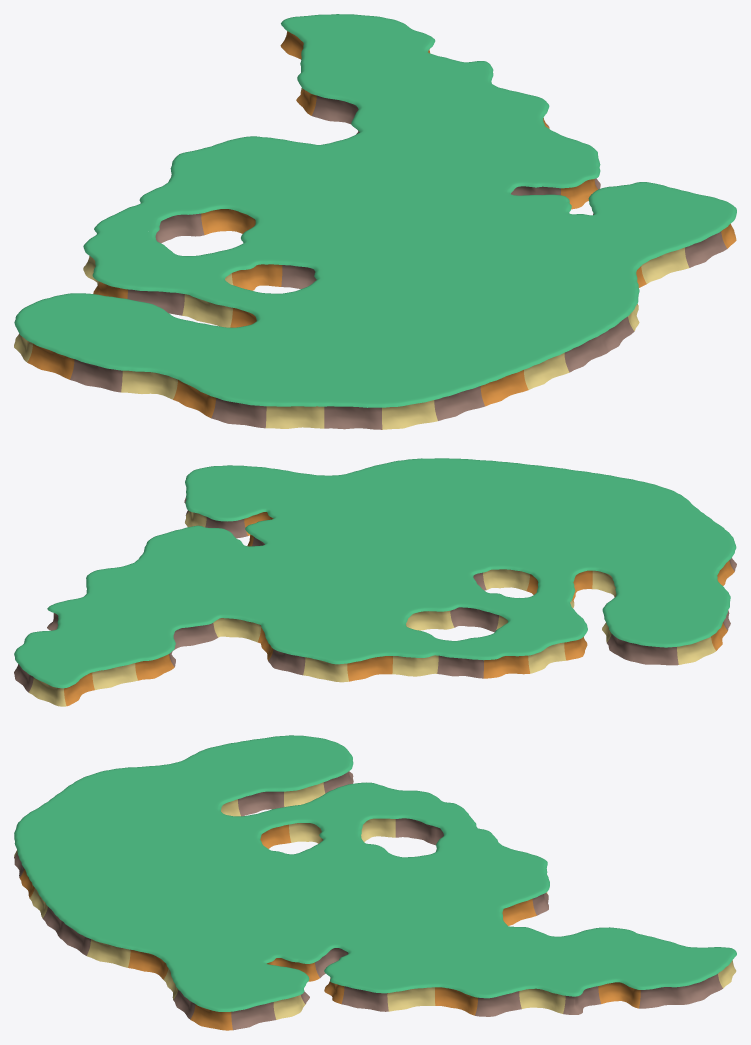
Rendered from Mod_G3_Lm2.fbx.
3 renders of one model, top to bottom at view 1: azimuth 30°, elevation 25°; view 2: azimuth 150°, elevation 25°; view 3: azimuth 270°, elevation 25°, orthographic. The views are drawn at different scales.
Parts seen in each view (by area): view 1: Mod_G3_Lm2; view 2: Mod_G3_Lm2; view 3: Mod_G3_Lm2.
Boxes of the visible parts, <box> form: Mod_G3_Lm2: <box>14,14,736,429</box>; Mod_G3_Lm2: <box>14,458,736,706</box>; Mod_G3_Lm2: <box>14,735,736,1030</box>.
Size of the model in its own units: 12753 by 442 by 14123.
